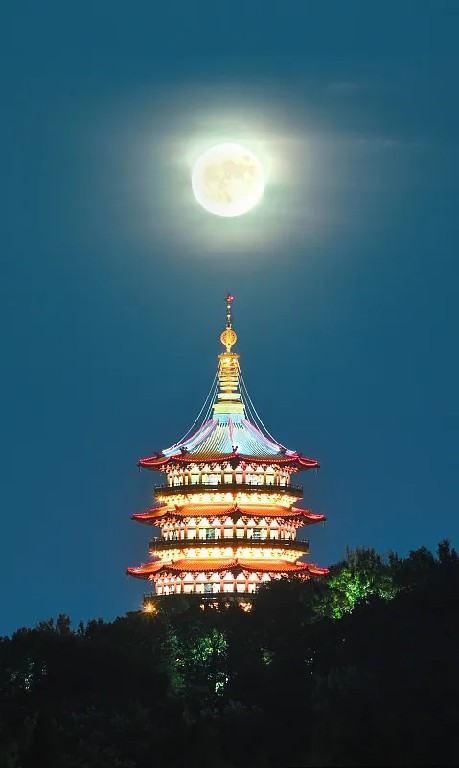Leifeng: (125, 291, 333, 628)
